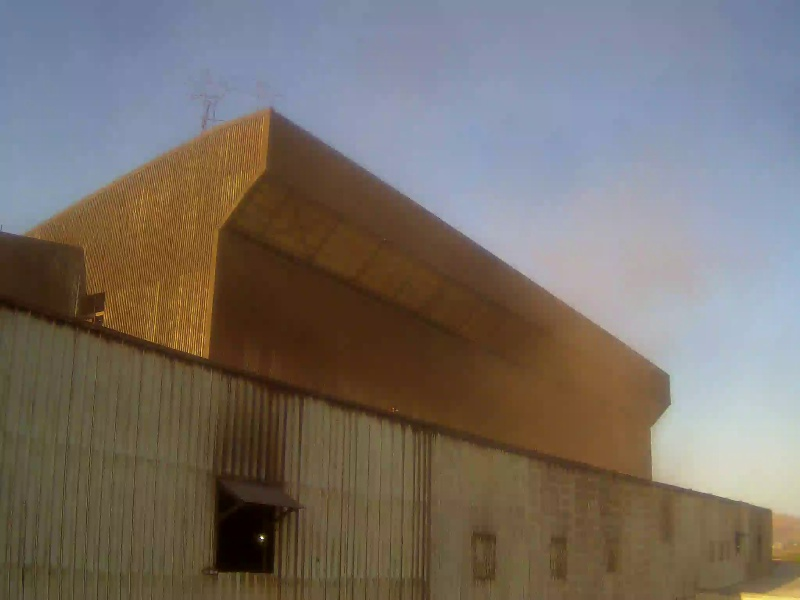Pessimo: (220, 101, 701, 507)
